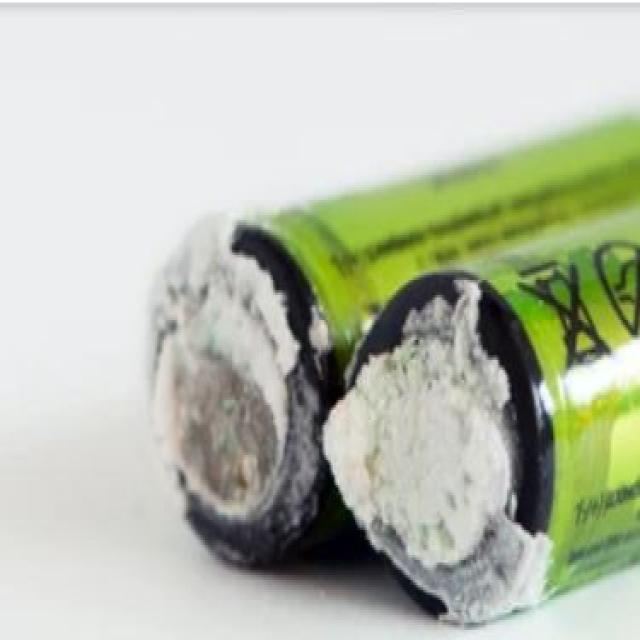electronic: (102, 100, 640, 640)
